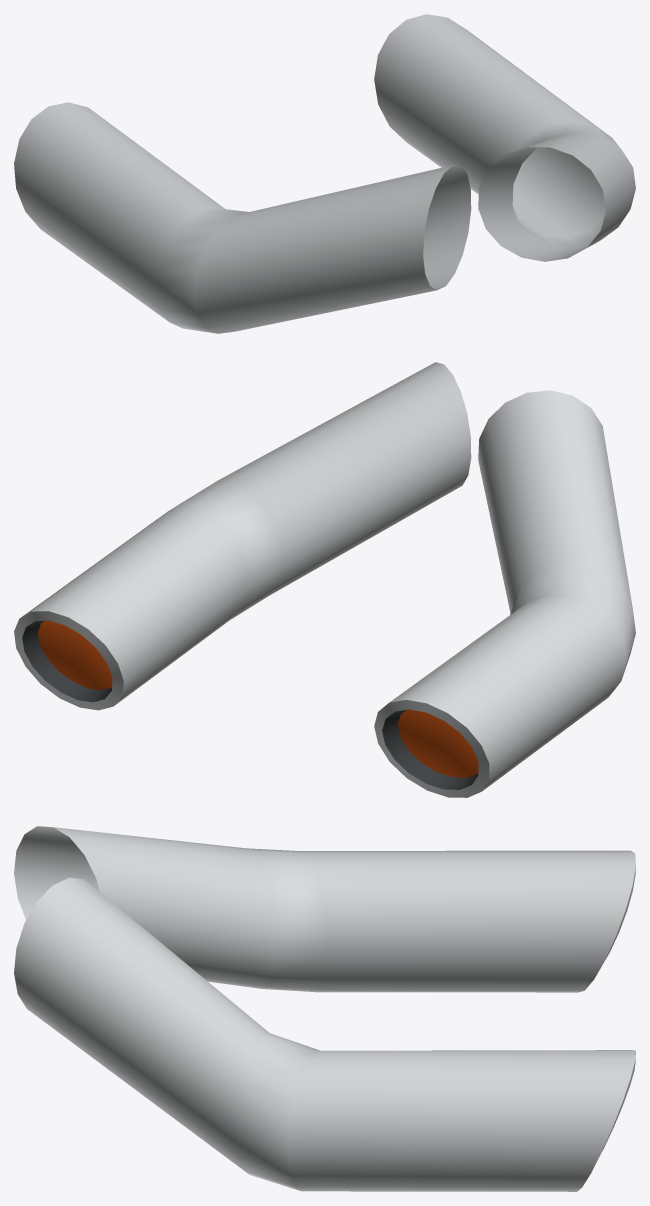
The model's file is Car_03_Pipe_Cool.fbx.
3 renders of one model, top to bottom at view 1: azimuth 30°, elevation 25°; view 2: azimuth 150°, elevation 25°; view 3: azimuth 270°, elevation 25°, orthographic. The views are drawn at different scales.
Visible parts, largest first — view 1: Car_03_Pipe_Cool; view 2: Car_03_Pipe_Cool; view 3: Car_03_Pipe_Cool.
Part boxes in pixels (<box>): Car_03_Pipe_Cool: <box>14,14,635,333</box>; Car_03_Pipe_Cool: <box>14,362,635,797</box>; Car_03_Pipe_Cool: <box>14,826,635,1191</box>.
Size of the model in its own units: 104 by 105 by 42.78.
